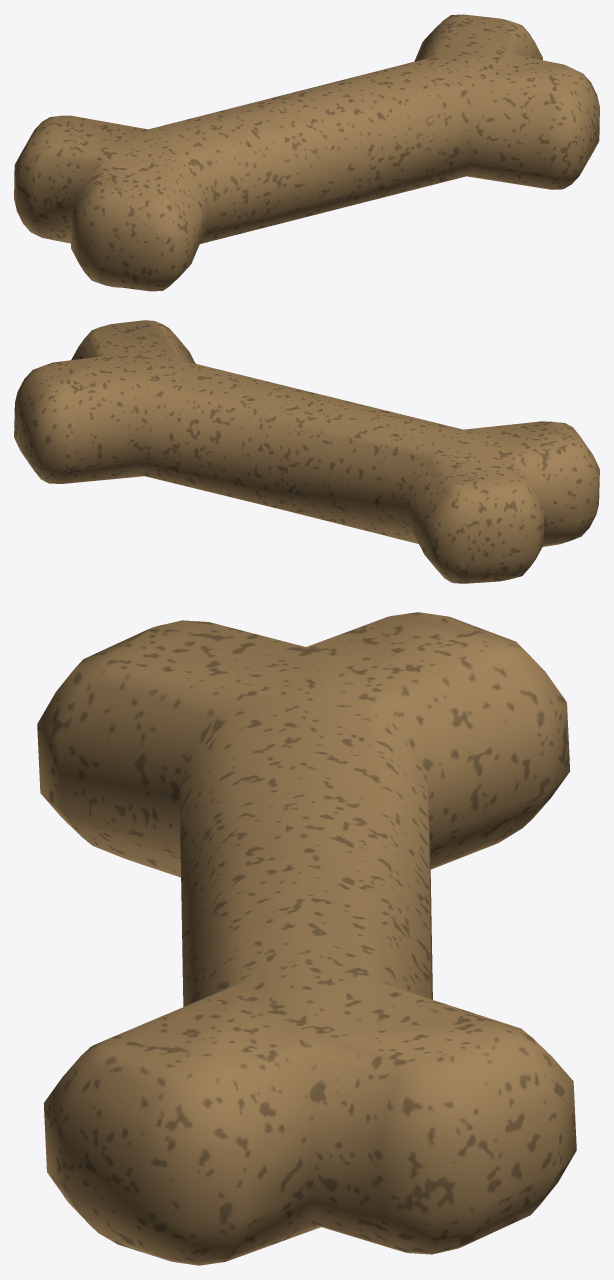
The model's file is DogFood1.fbx.
The picture shows the model from 3 angles, top to bottom: view 1: azimuth 30°, elevation 25°; view 2: azimuth 150°, elevation 25°; view 3: azimuth 270°, elevation 25°; orthographic projection. The views are drawn at different scales.
Visible parts, largest first — view 1: DogFood1; view 2: DogFood1; view 3: DogFood1.
Part boxes in pixels (left/top/right/bottom): DogFood1: left=14, top=14, right=599, bottom=291; DogFood1: left=14, top=320, right=599, bottom=583; DogFood1: left=37, top=612, right=576, bottom=1265.
Size of the model in its own units: 2.26 by 0.447 by 1.02.
